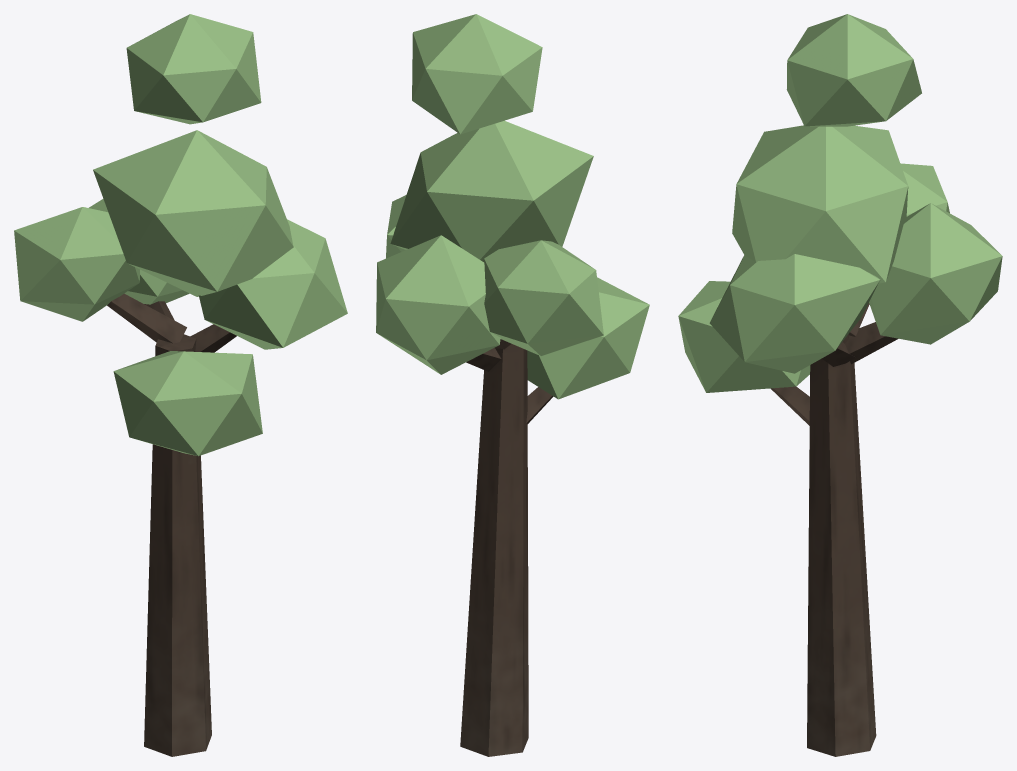
File: arv_carvalho_6.glb
3 renders of one model, left to right at view 1: azimuth 30°, elevation 25°; view 2: azimuth 150°, elevation 25°; view 3: azimuth 270°, elevation 25°, orthographic.
Parts seen in each view (by area): view 1: arv_carvalho_6; view 2: arv_carvalho_6; view 3: arv_carvalho_6.
Boxes of the visible parts, x1,y1,x2,y2 form: arv_carvalho_6: (14,14,347,756); arv_carvalho_6: (376,14,649,756); arv_carvalho_6: (678,14,1002,756).
Size of the model in its own units: 0.8194 by 2.19 by 0.8754.
Materials: 2 (1 with a texture image).
